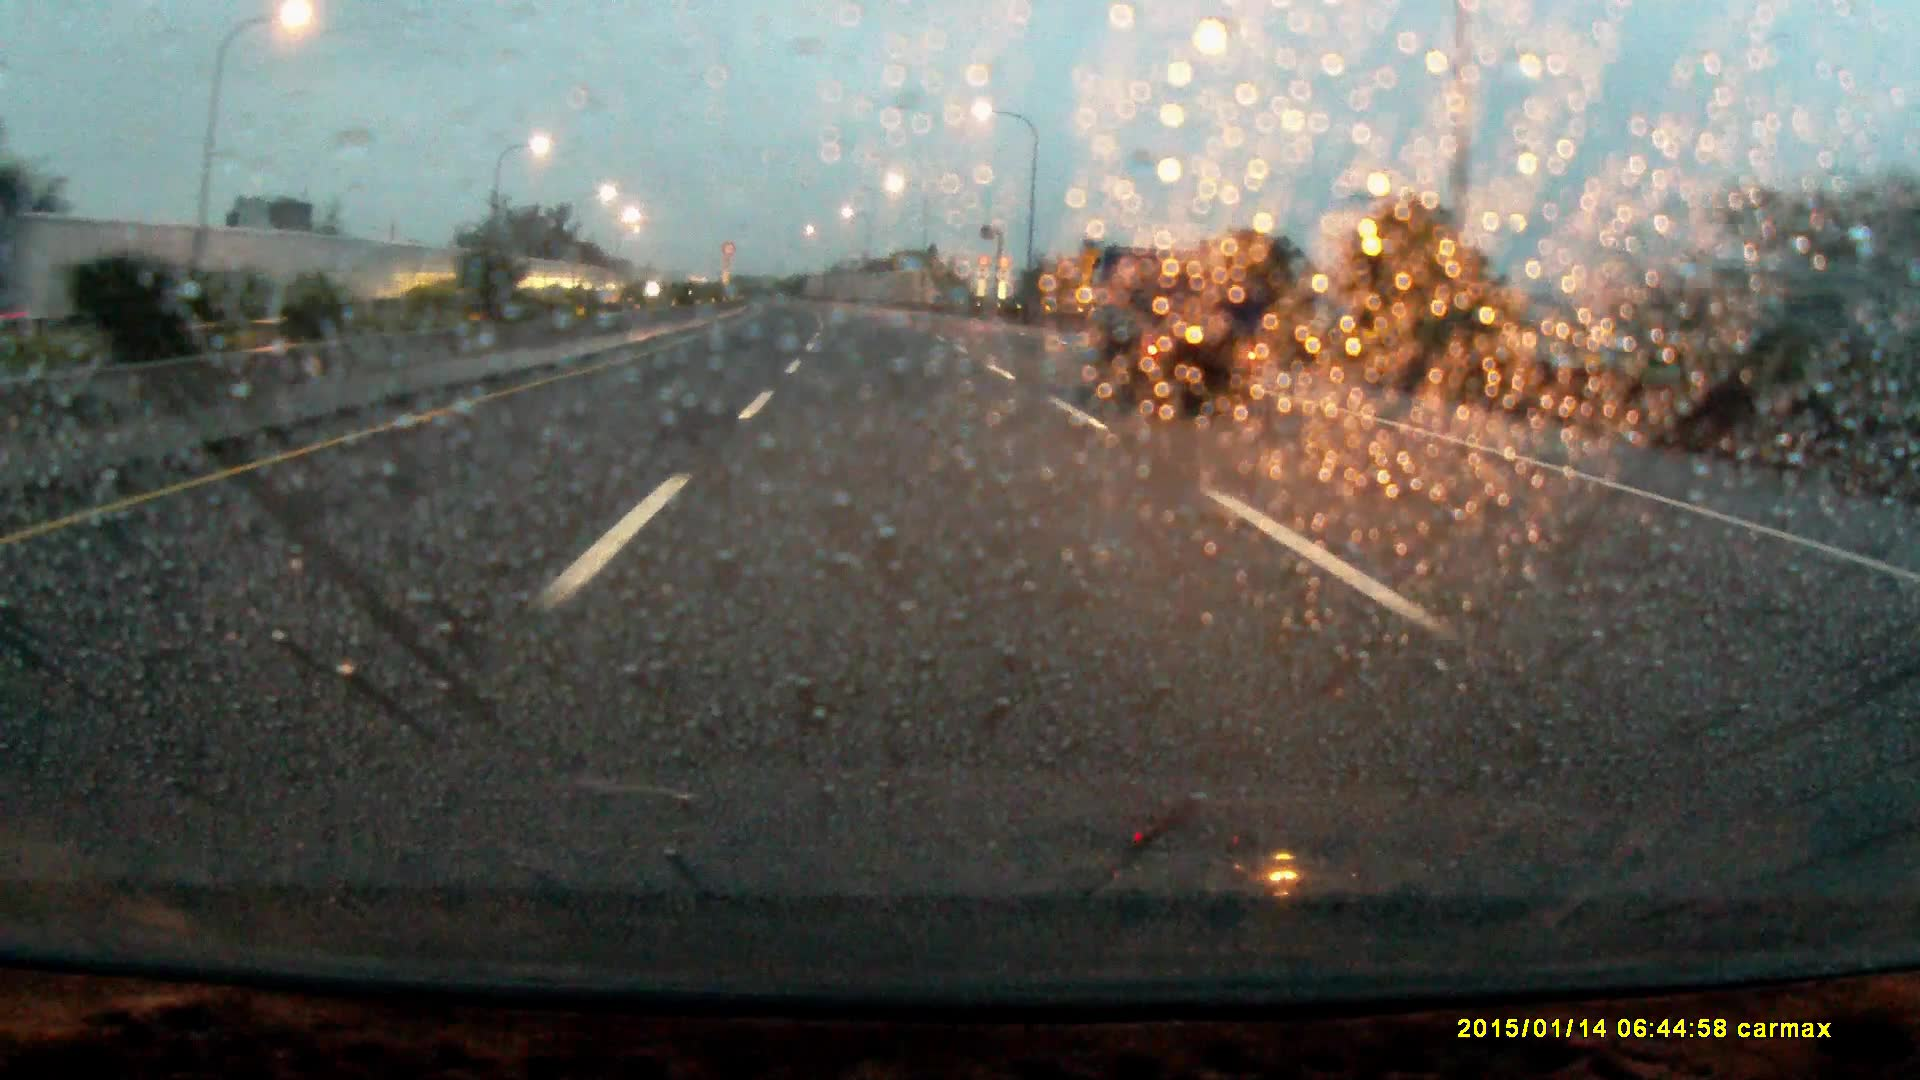vehicle: (1077, 247, 1261, 411)
